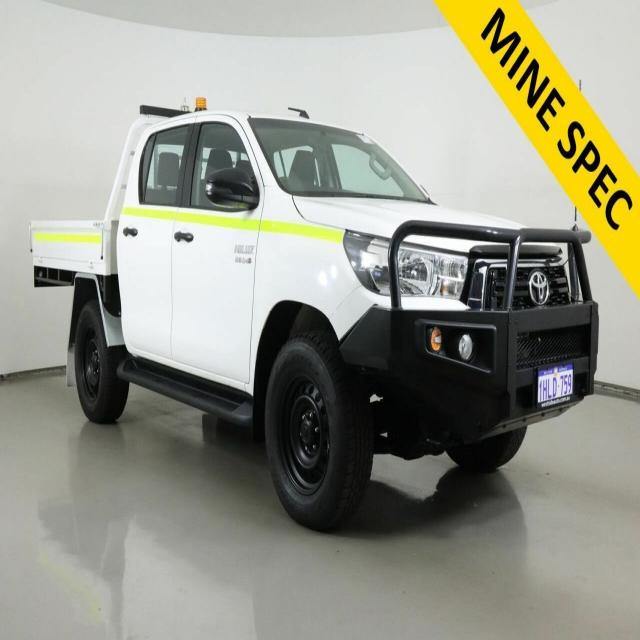light_vehicle: (28, 82, 608, 532)
